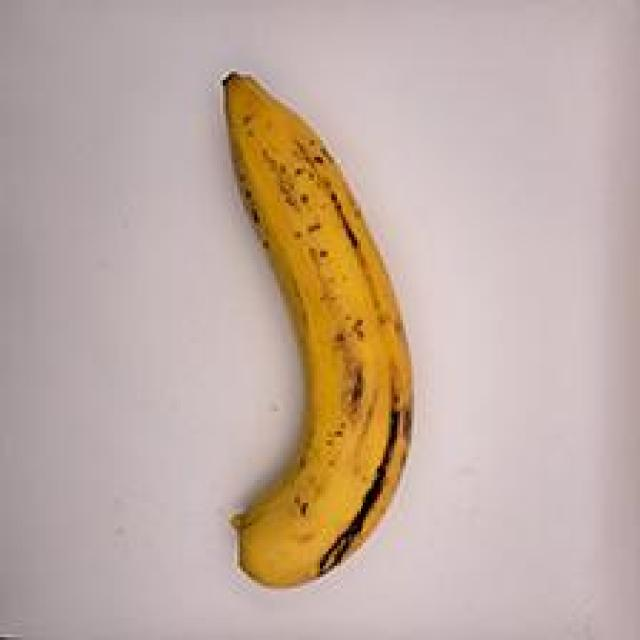Overripe: (126, 52, 465, 608)
